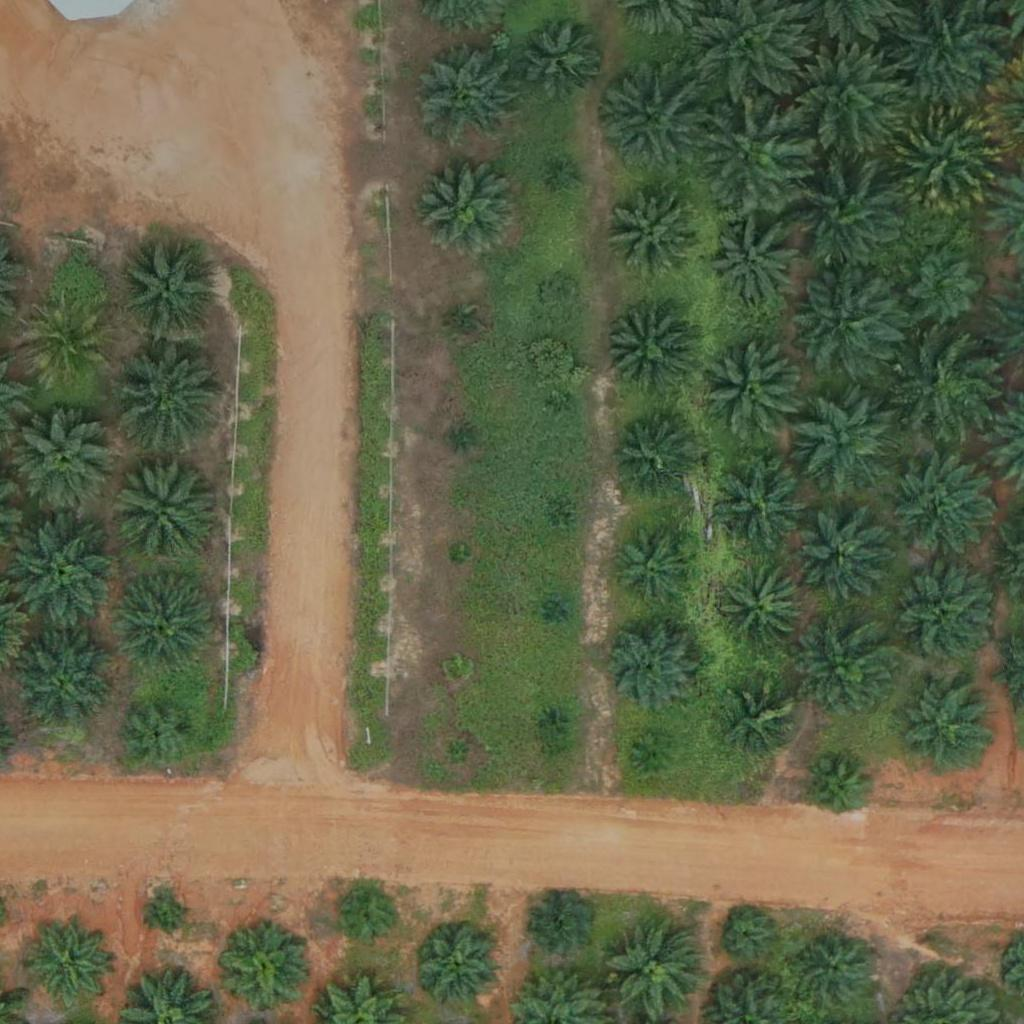Kelapa_Sawit: (595, 62, 708, 176), (888, 103, 1001, 216), (6, 514, 119, 627), (789, 160, 901, 274), (793, 263, 905, 377), (698, 96, 810, 210), (786, 47, 898, 160), (595, 611, 707, 724), (114, 340, 226, 453), (792, 392, 892, 493), (701, 341, 801, 442), (709, 453, 809, 554), (416, 45, 516, 146), (414, 153, 514, 254), (796, 620, 896, 721), (890, 565, 990, 666), (895, 675, 995, 776), (116, 240, 216, 341), (13, 632, 113, 733), (606, 920, 706, 1021), (897, 336, 997, 436), (890, 457, 990, 557), (111, 460, 211, 560), (116, 574, 216, 674), (17, 413, 117, 513), (613, 522, 701, 611), (610, 414, 698, 502), (719, 566, 807, 654), (22, 303, 110, 391), (24, 921, 112, 1009), (416, 925, 504, 1013), (799, 518, 886, 606), (711, 219, 798, 307), (611, 186, 698, 274), (604, 308, 691, 396), (517, 15, 604, 103), (223, 930, 310, 1018), (122, 696, 197, 772), (906, 247, 981, 323), (726, 684, 801, 759), (798, 933, 873, 1008), (805, 757, 868, 820), (528, 895, 591, 958), (338, 888, 400, 951), (723, 912, 773, 962), (542, 278, 580, 316), (635, 733, 673, 771), (150, 896, 187, 934), (555, 163, 580, 188), (551, 393, 576, 418), (545, 509, 570, 534), (451, 313, 476, 338), (451, 426, 476, 451), (447, 544, 472, 569), (443, 656, 468, 681), (446, 740, 471, 765), (546, 598, 571, 623), (539, 708, 564, 733)
